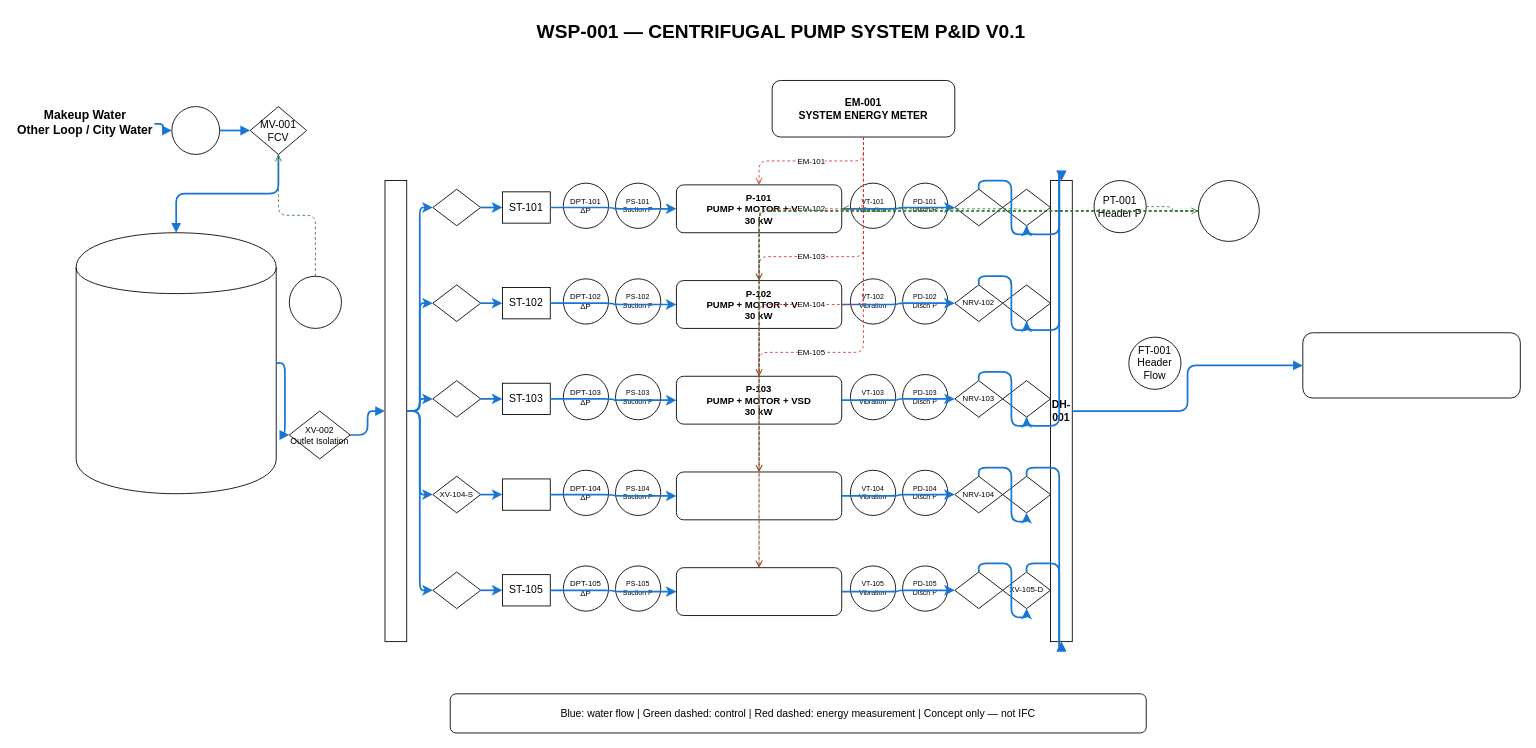
The diagram is 1536 pixels wide and 748 high, and some of its shapes have lost their labels. The shapes that lost their labels are listed below. From the top down, each one's box as (x1, y1, x2, y2) in pixels, then its label:
(171, 106, 220, 154): FM-001 Flow Meter
(432, 188, 481, 226): XV-101-S
(954, 188, 1003, 226): NRV-101
(1002, 188, 1051, 226): XV-101-D
(1198, 180, 1259, 241): PIC-001 Pressure Control
(288, 275, 341, 328): LT-001 Level
(432, 284, 481, 321): XV-102-S
(1002, 284, 1051, 321): XV-102-D
(75, 232, 276, 494): TK-001 SUPPLY TANK
(1302, 332, 1520, 398): LOAD-001 VARIABLE PROCESS / USERS
(384, 180, 407, 642): SH-001
(432, 380, 481, 417): XV-103-S
(1002, 380, 1051, 417): XV-103-D
(502, 478, 550, 510): ST-104
(676, 471, 842, 520): P-104 PUMP + MOTOR + VSD 30 kW
(1002, 475, 1051, 513): XV-104-D
(432, 571, 481, 609): XV-105-S
(676, 567, 842, 616): P-105 PUMP + MOTOR + VSD 30 kW
(954, 571, 1003, 609): NRV-105
